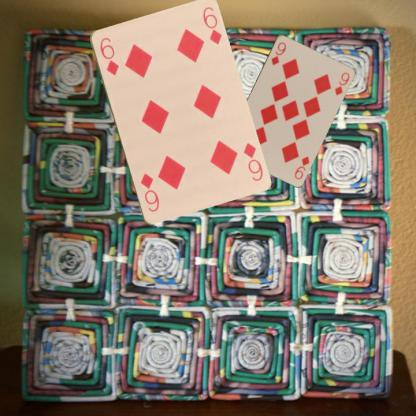6d: (240, 140, 264, 182), (97, 35, 120, 77)
9d: (292, 153, 311, 180), (268, 40, 287, 66)
